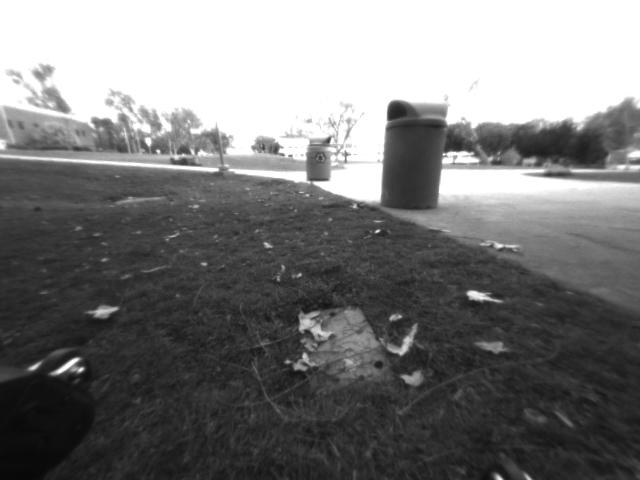trashcan: (367, 91, 458, 212)
